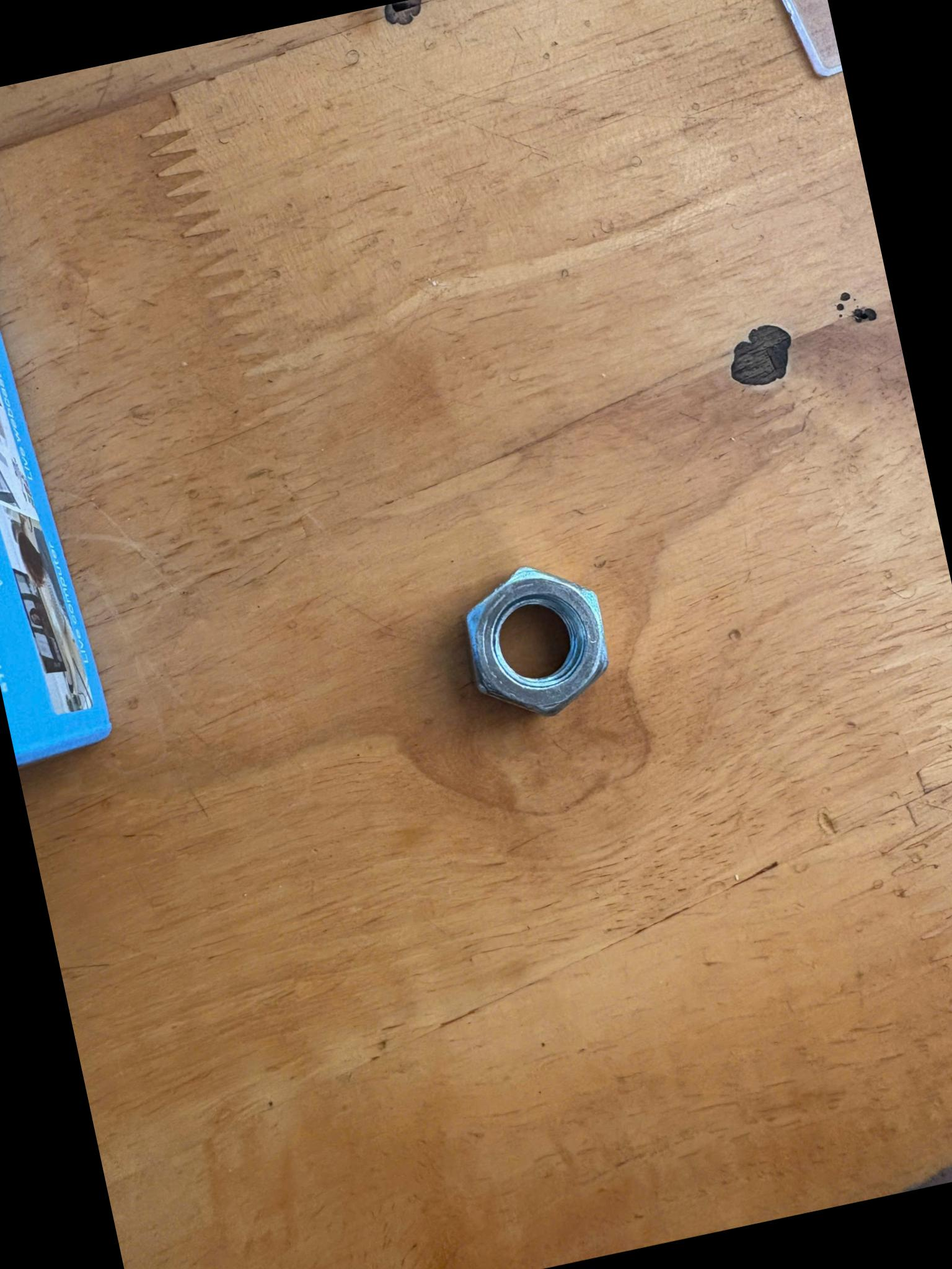nut: (423, 537, 641, 752)
